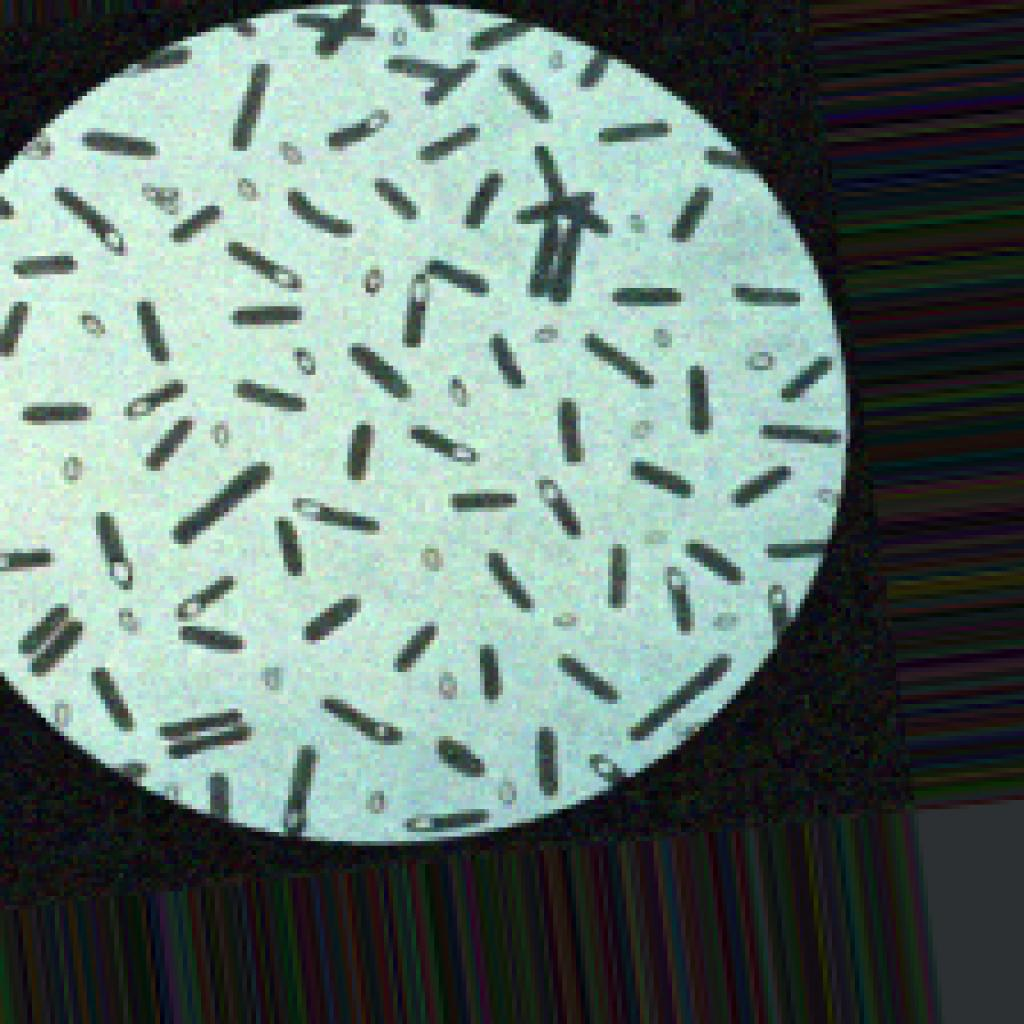Rodbacteria: (0, 0, 868, 850)
